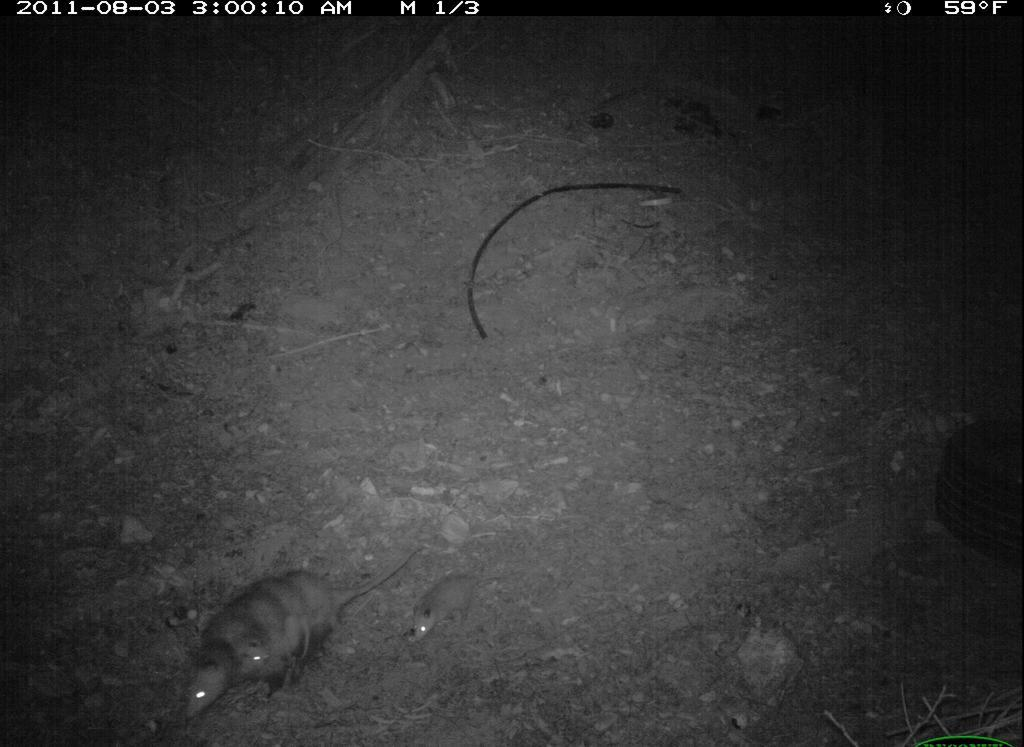opossum: (177, 537, 420, 721), (406, 569, 509, 647)
